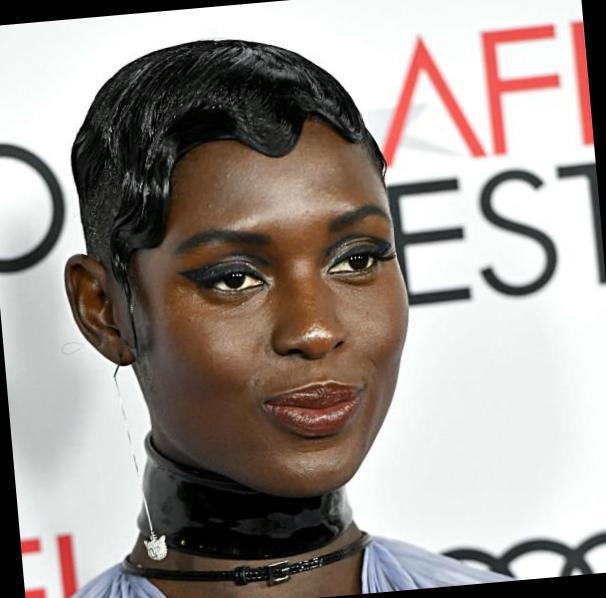Sober: (120, 153, 402, 473)
